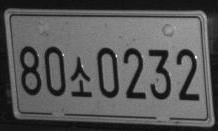0: (96, 46, 120, 98), (43, 45, 66, 96)
2: (175, 48, 200, 101), (122, 47, 146, 99)
3: (148, 48, 172, 100)
8: (19, 45, 42, 96)
소: (70, 56, 92, 97)
